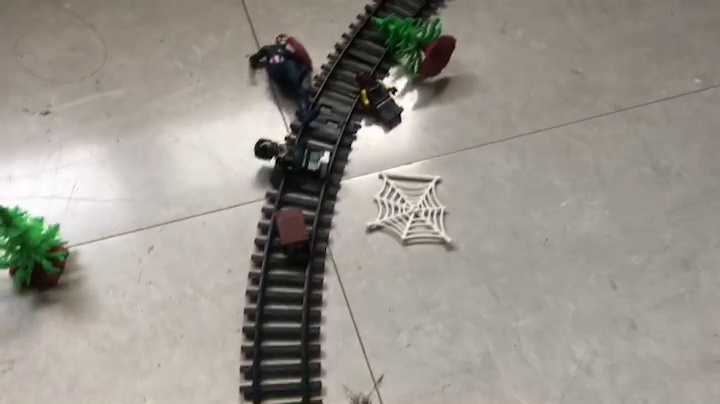box: (272, 206, 309, 258)
people: (249, 32, 322, 129), (252, 135, 331, 183), (352, 70, 406, 130)
tree: (1, 200, 71, 291), (368, 14, 457, 83)
web: (366, 171, 454, 248)
